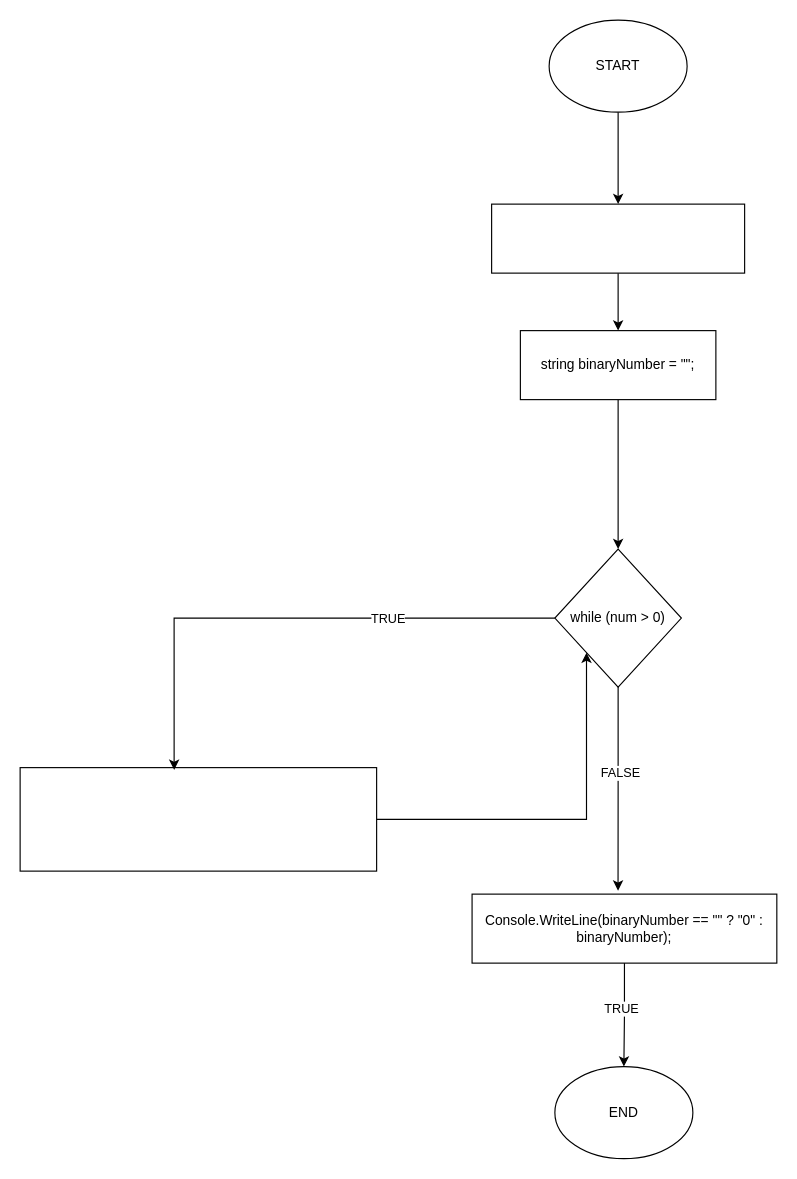
The diagram is 797 pixels wide and 1179 high, and some of its shapes have lost their labels. Each missing label, with the box of its shape:
int num = Convert.ToInt32(Console.ReadLine());: (490, 203, 745, 273)
int remainder = num % 2; binaryNumber = remainder + binaryNumber; num /= 2;: (19, 766, 377, 871)
